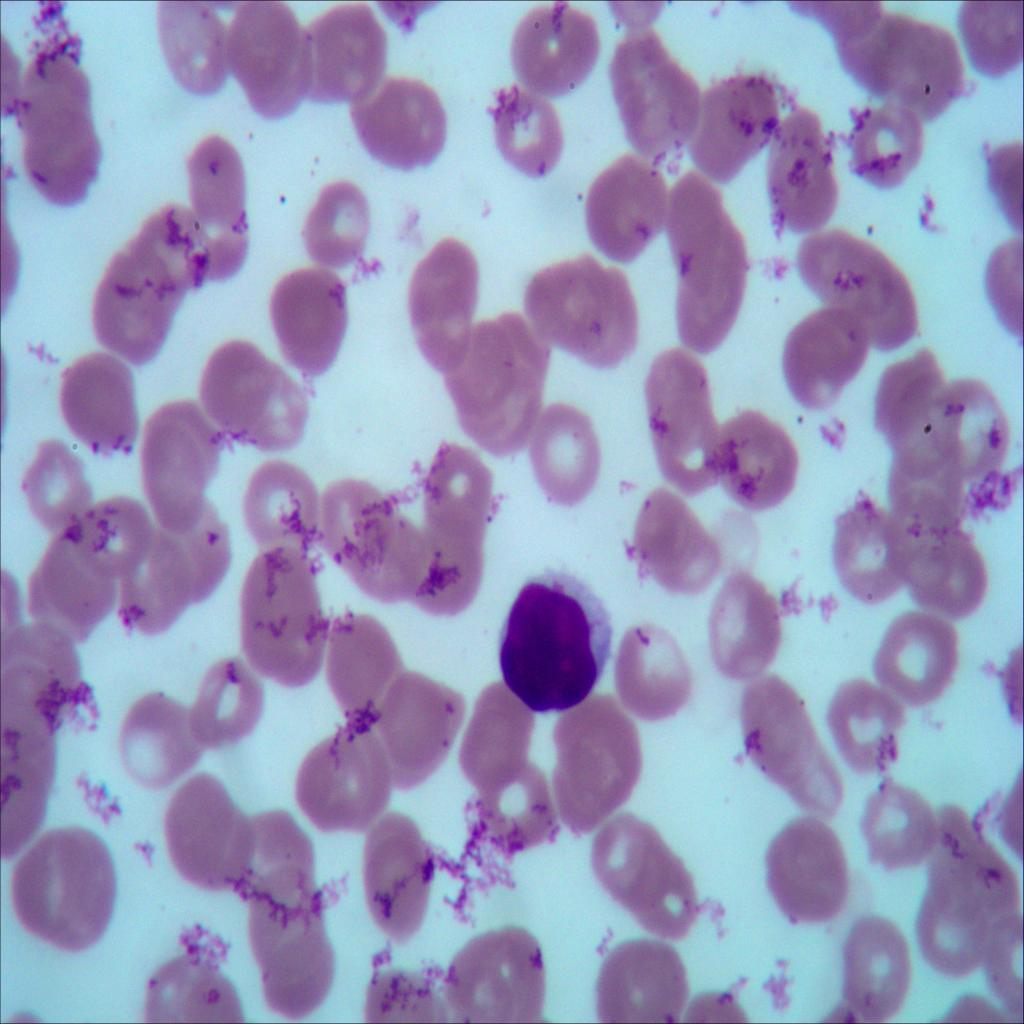Limfoblast: (494, 559, 614, 719)
